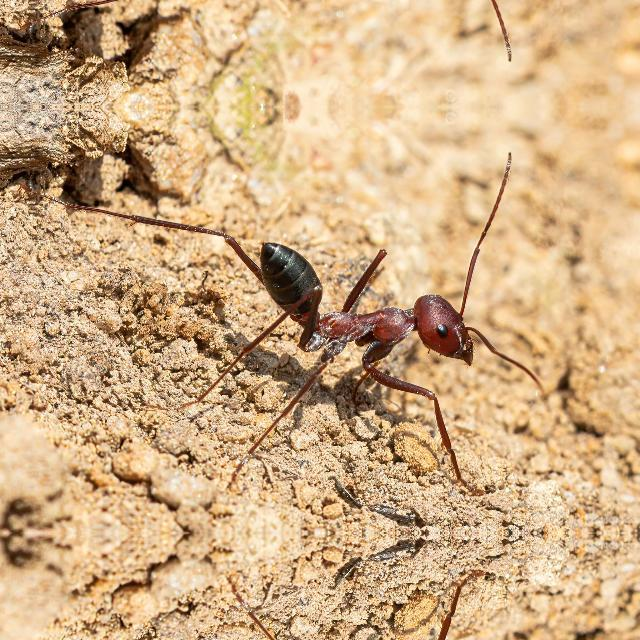Cataglyphis: (200, 222, 512, 404)
